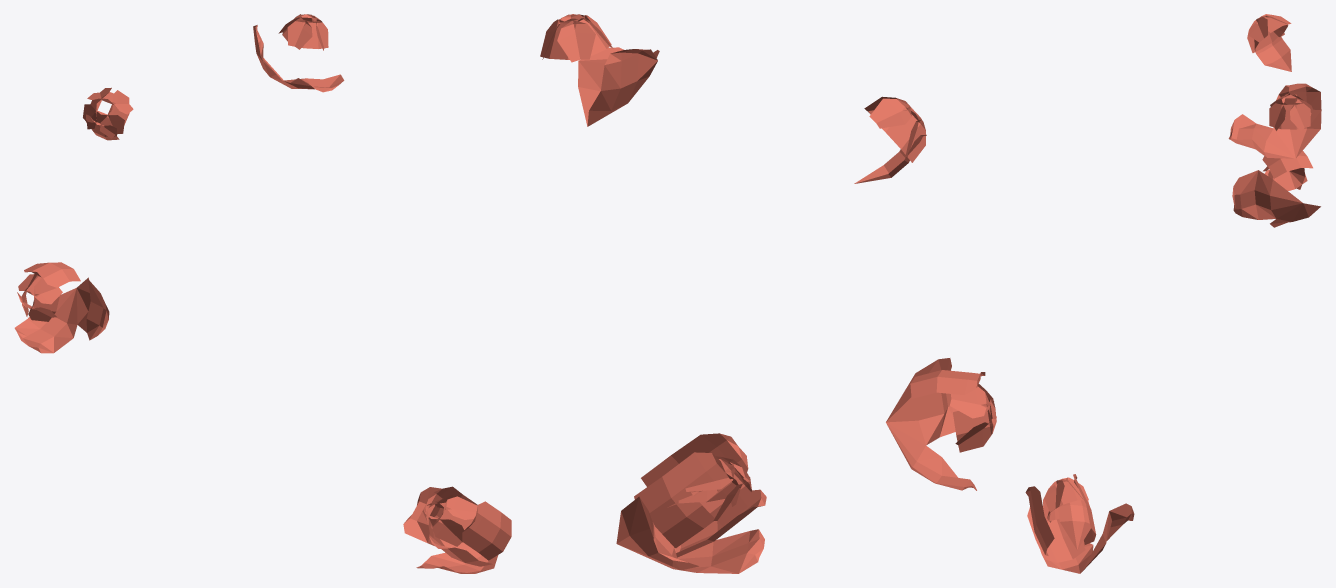
File: 06_openskp_material_74.001.obj
The picture shows the model from 3 angles, left to right: view 1: azimuth 30°, elevation 25°; view 2: azimuth 150°, elevation 25°; view 3: azimuth 270°, elevation 25°; orthographic projection. The views are drawn at different scales.
Parts seen in each view (by area): view 1: 06_openskp_material_74.001; view 2: 06_openskp_material_74.001; view 3: 06_openskp_material_74.001.
Boxes of the visible parts, left/top/right/bottom form: 06_openskp_material_74.001: left=14, top=14, right=511, bottom=573; 06_openskp_material_74.001: left=540, top=14, right=996, bottom=573; 06_openskp_material_74.001: left=1025, top=14, right=1321, bottom=573.
Size of the model in its own units: 13.32 by 16.44 by 9.82.
